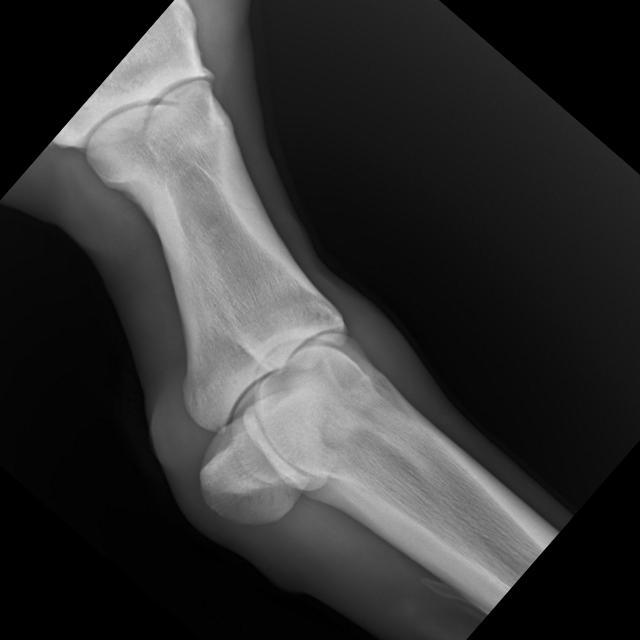joint-ht8A: (50, 151, 517, 621)
